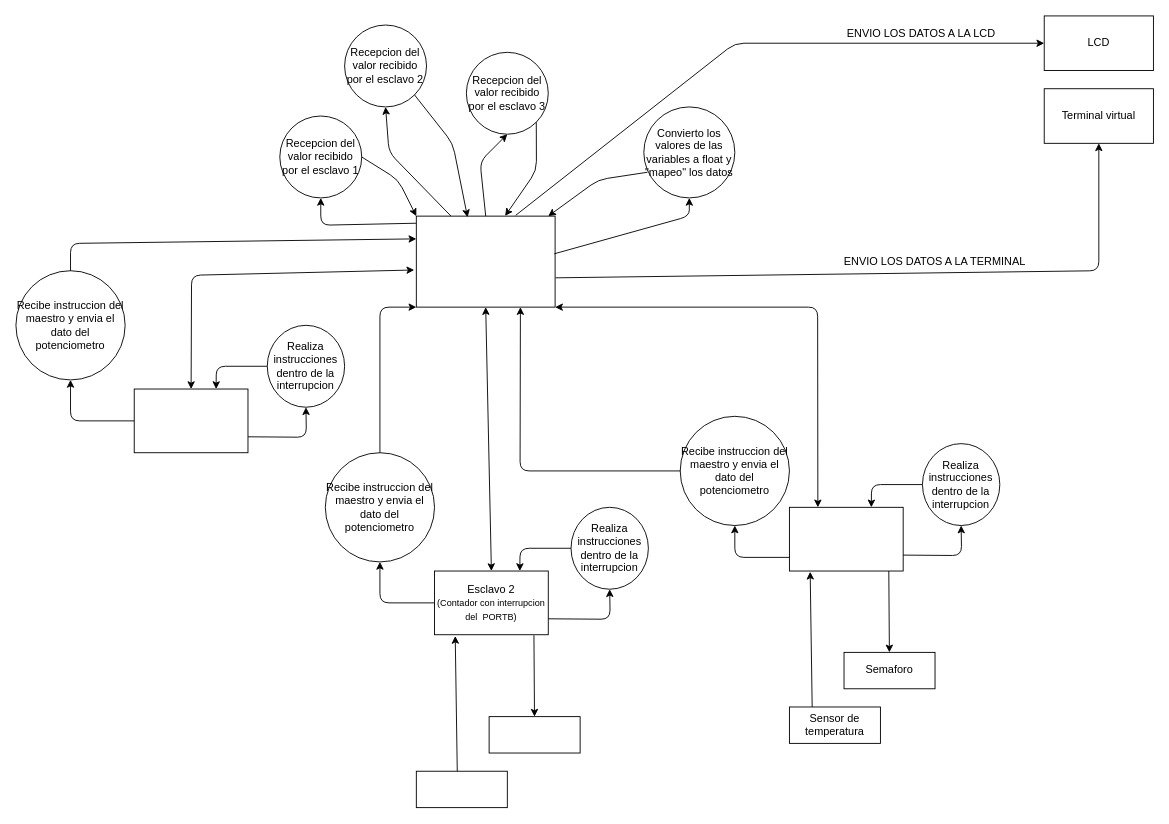
Image size: 1169x824. Some labels were removed from this diagram. Here are the shapes that lost their labels. From the top down, the centre of each, then its label:
(x=485, y=261): Maestro
(x=190, y=420): Esclavo 1 (ADC con el potenciometro)
(x=846, y=538): Esclavo 3 (ADC con sensor de temperatura)
(x=534, y=734): 8 LEDs para contador
(x=461, y=789): 2 Interruptores Pull-Up
